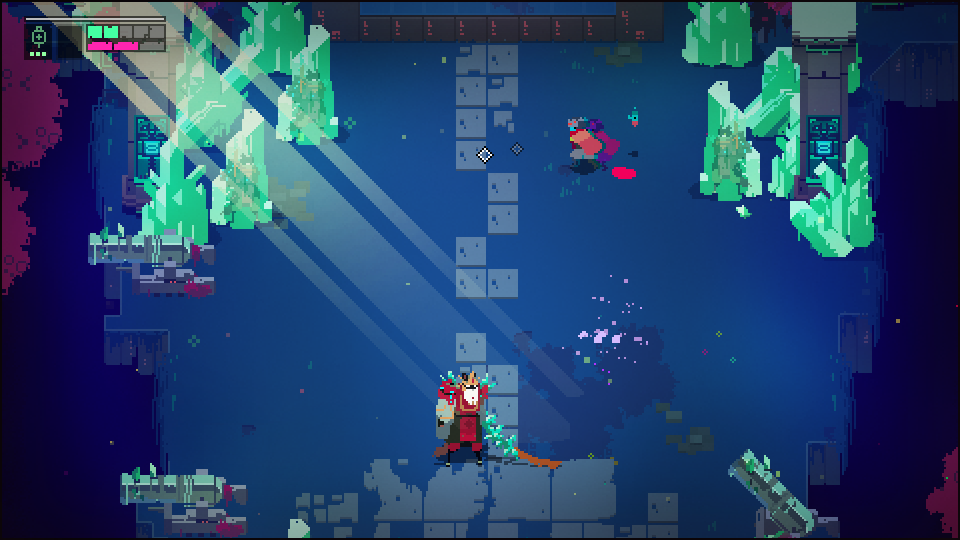hanged_man: (428, 368, 524, 473)
player: (562, 115, 605, 175)
